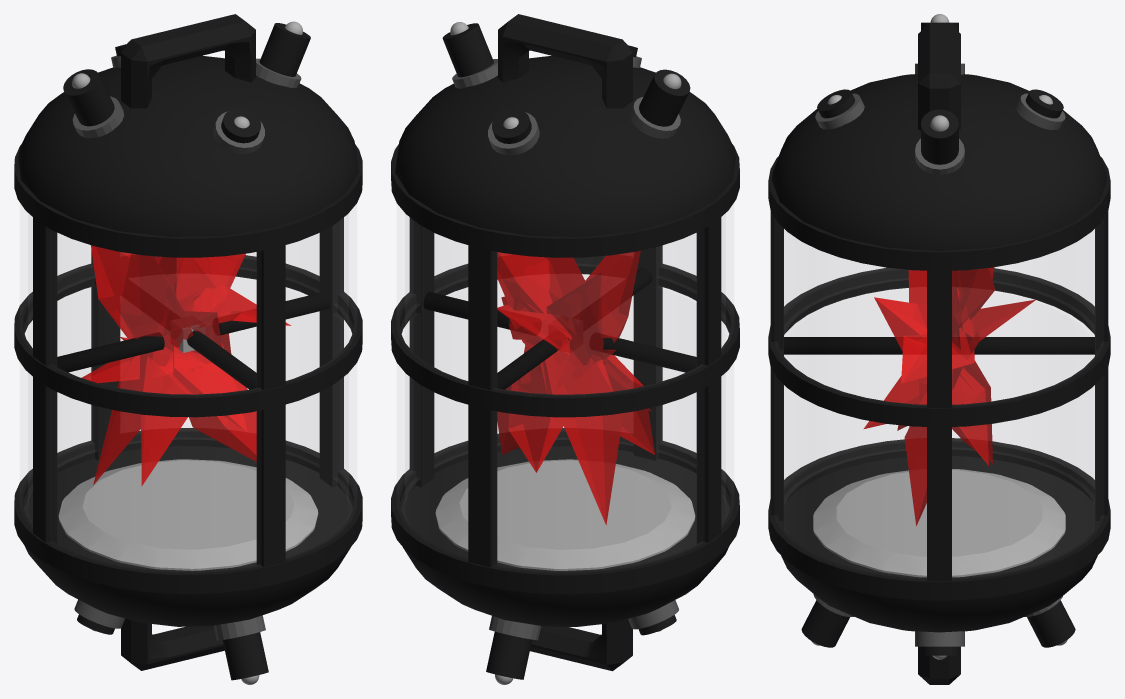
The model's file is Crystal4.fbx.
The picture shows the model from 3 angles, left to right: view 1: azimuth 30°, elevation 25°; view 2: azimuth 150°, elevation 25°; view 3: azimuth 270°, elevation 25°; orthographic projection. The views are drawn at different scales.
Visible parts, largest first — view 1: pCube58; view 2: pCube58; view 3: pCube58.
Part boxes in pixels (left/top/right/bottom): pCube58: left=14, top=14, right=362, bottom=684; pCube58: left=391, top=14, right=739, bottom=684; pCube58: left=768, top=14, right=1110, bottom=684.
Size of the model in its own units: 13.71 by 27.06 by 13.71.
